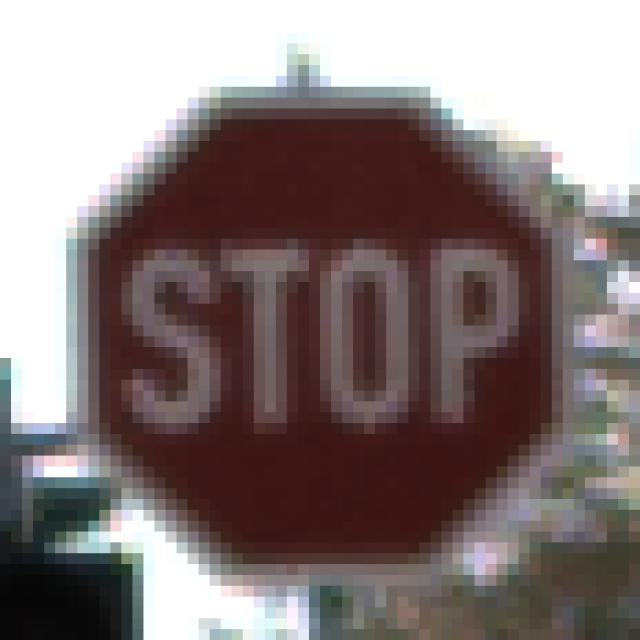STOP: (67, 66, 586, 576)
